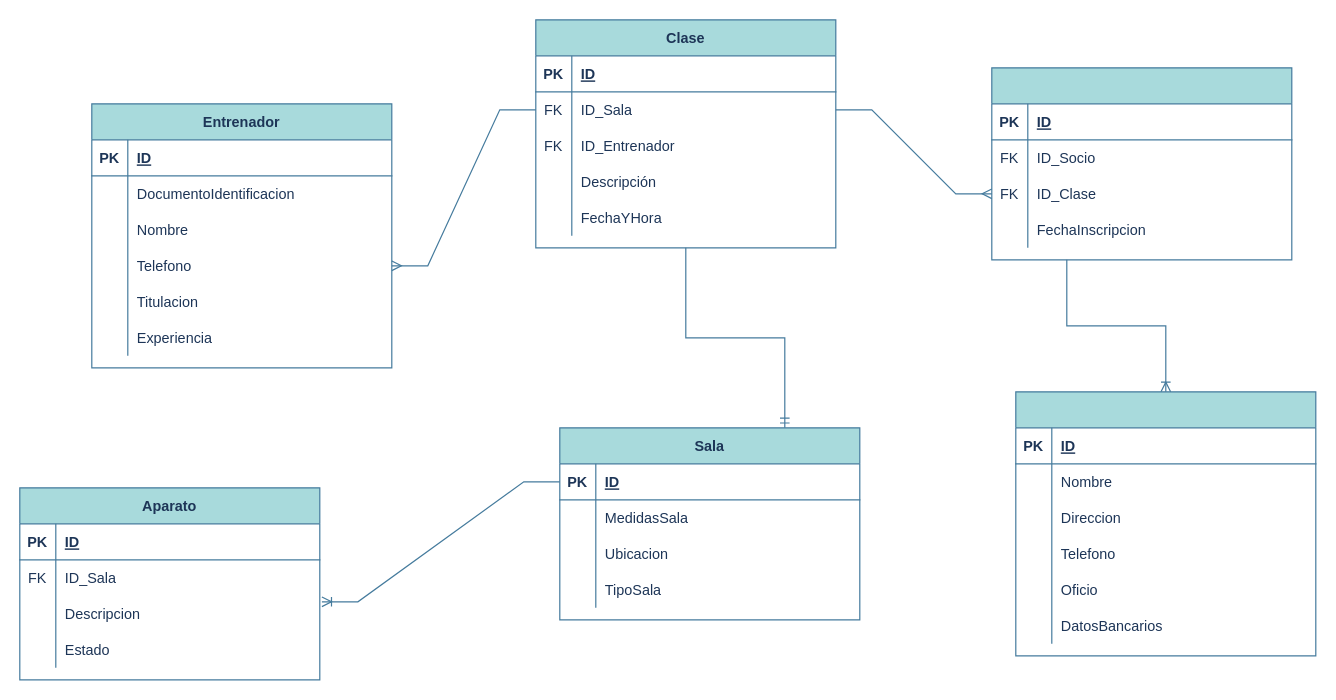
Image size: 1336x700. Some labels were removed from this diagram. Here are the shapes that lost their labels. From the top down, the box of each, then its label:
(991, 67, 1292, 260): SocioClase
(1015, 391, 1316, 656): Socio
